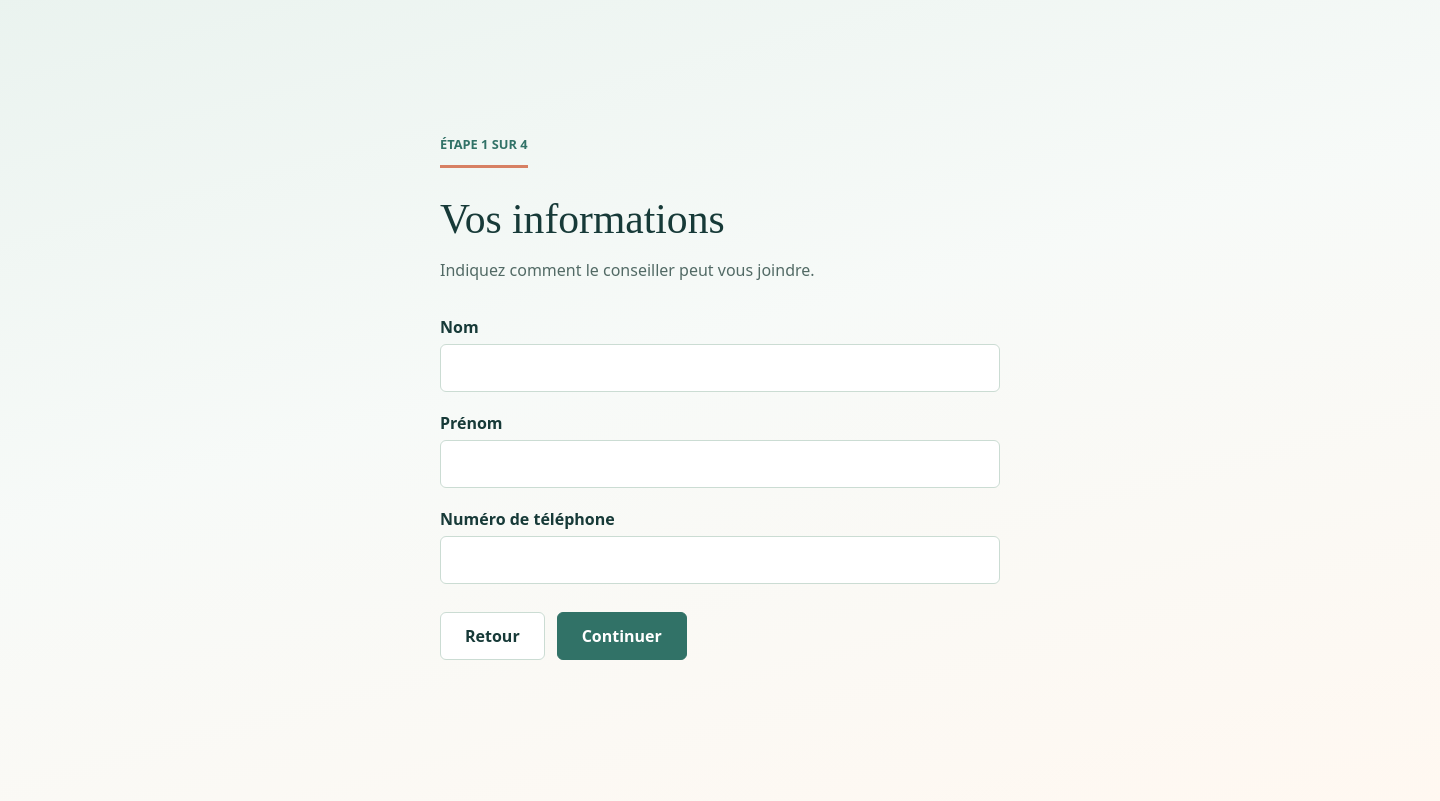
Test: Parcours client › exige un motif et un créneau avant de continuer
The image size is (1440, 801).
Type "Dupont" into the field labelled "Nom" at (720, 368), box [440,344,1000,392]
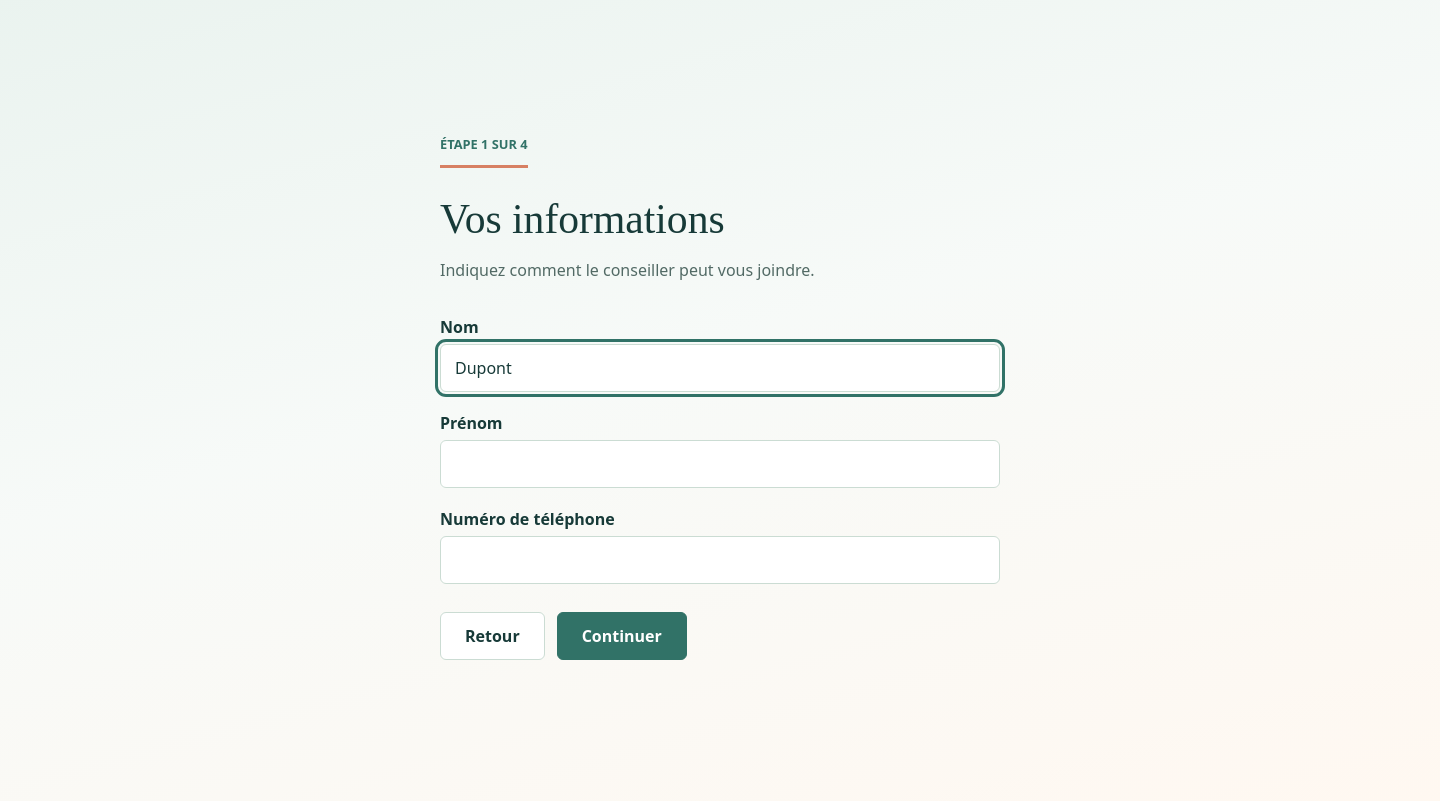
Type "Alice" into the field labelled "Prénom" at (720, 464), box [440,440,1000,488]
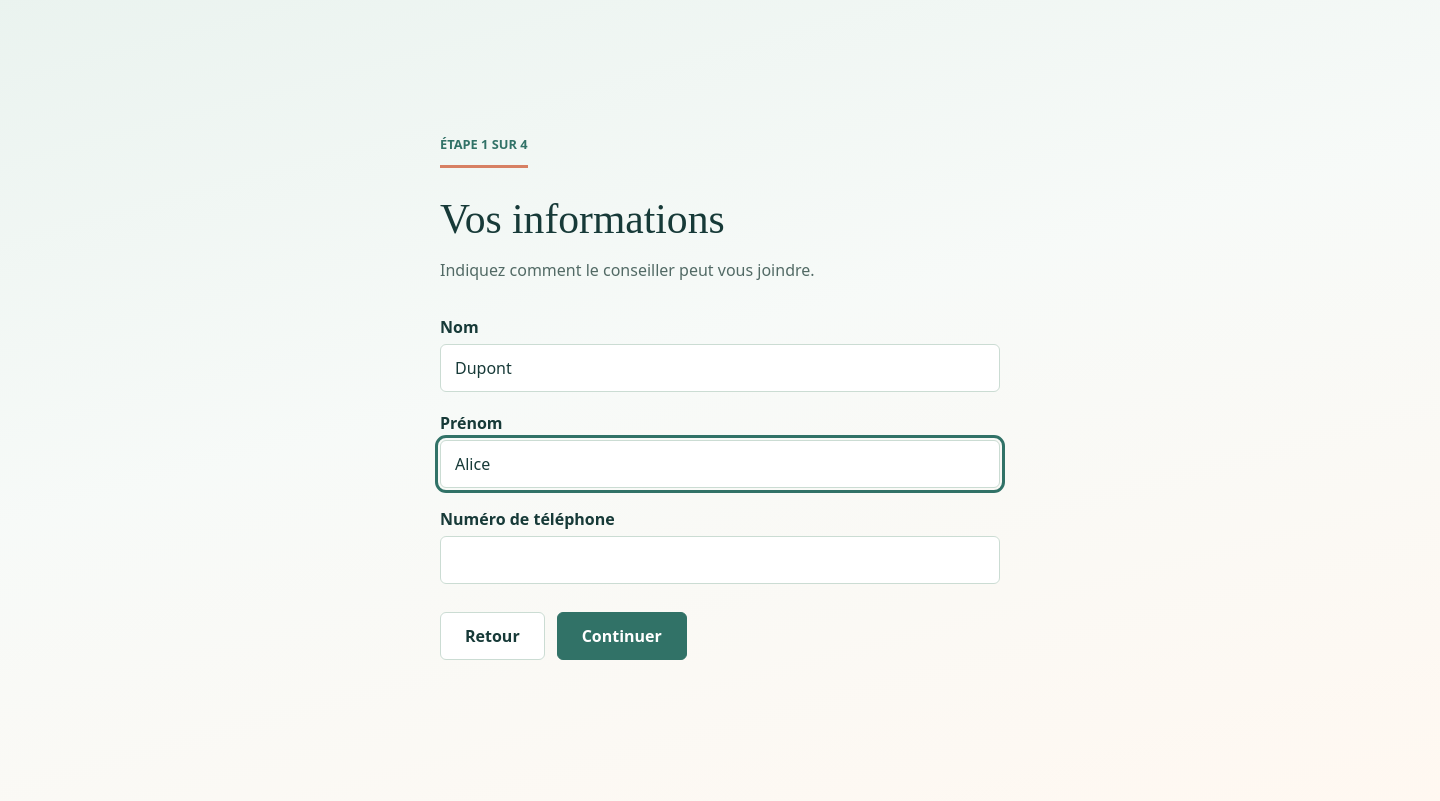
Type "06 12 34 56 78" into the field labelled "Numéro de téléphone" at (720, 560), box [440,536,1000,584]
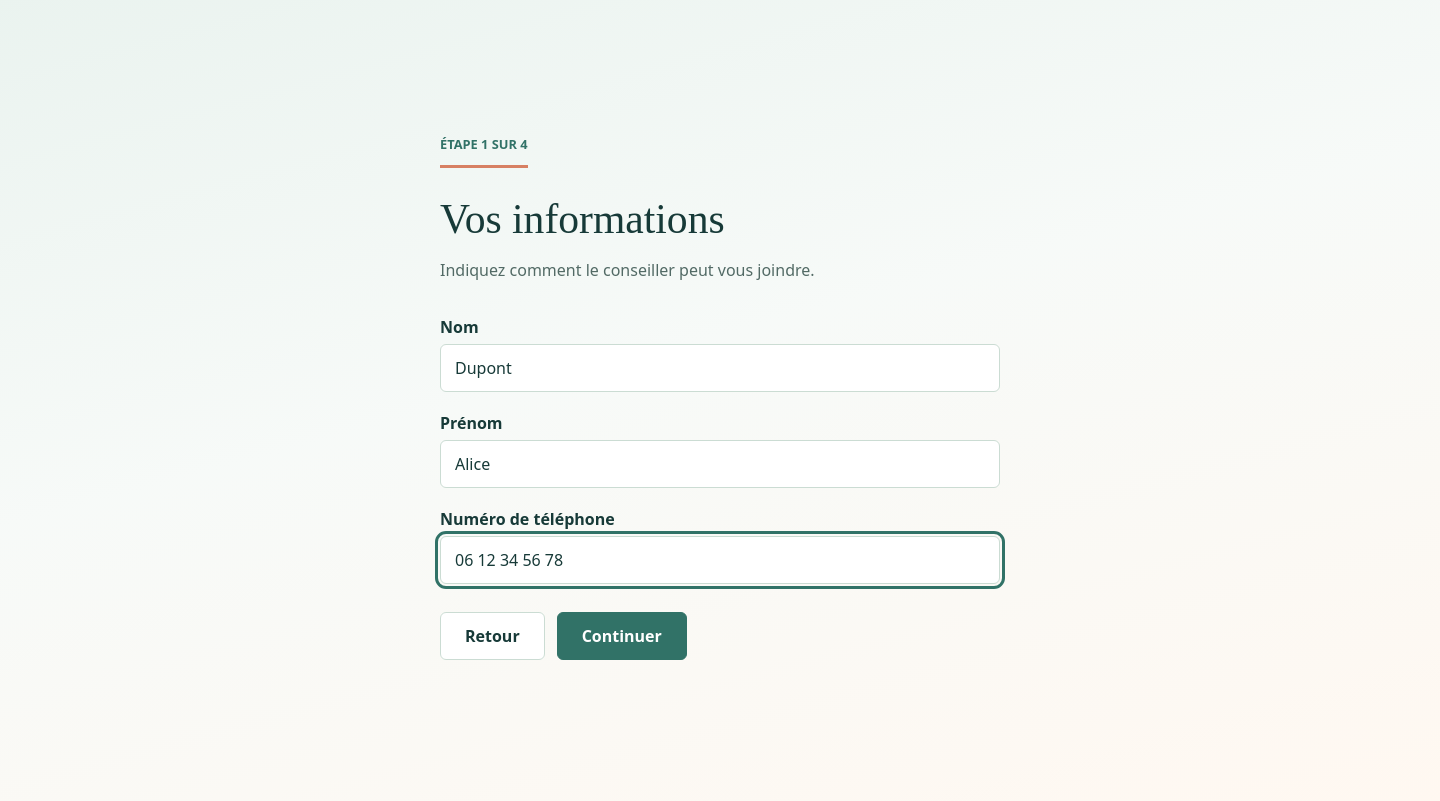
Click the button "Continuer" at (622, 636), box [557,612,687,660]
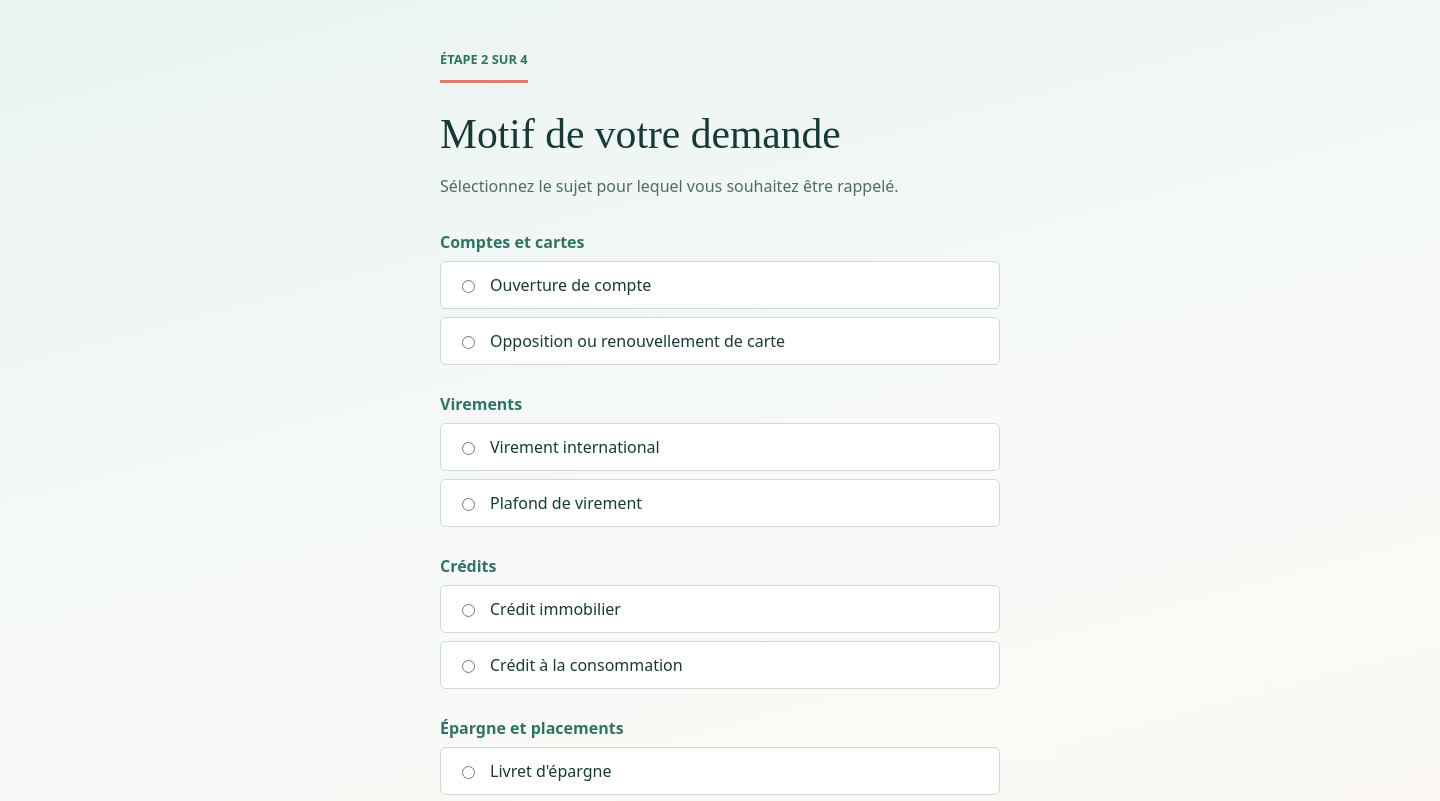
Now the heading "Motif de votre demande" is shown, box [440,111,841,157]
Click the radio button labelled "Virement international" at (468, 449), box [462,442,475,455]
(page scrolled)
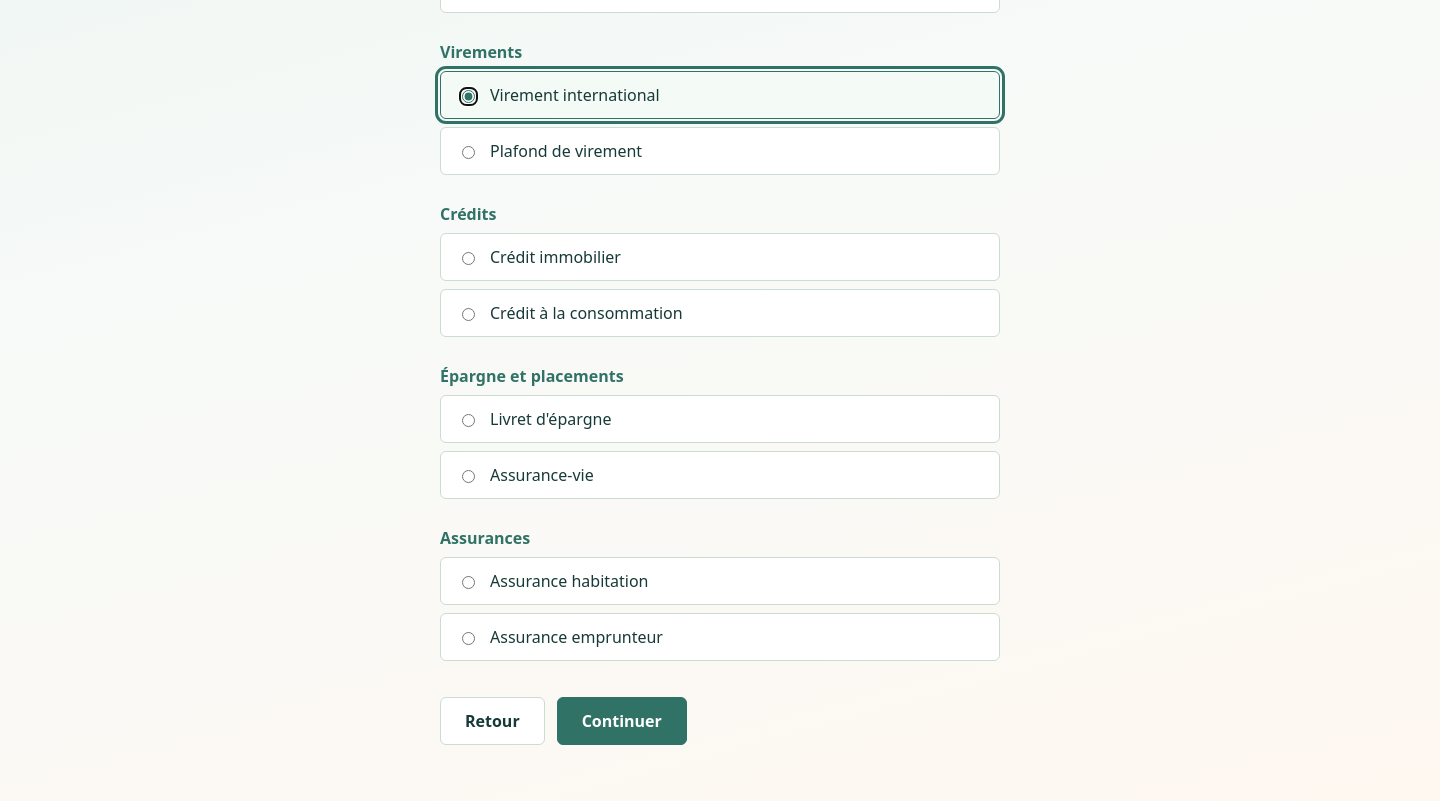
Click the button "Continuer" at (622, 721), box [557,697,687,745]
(page scrolled)
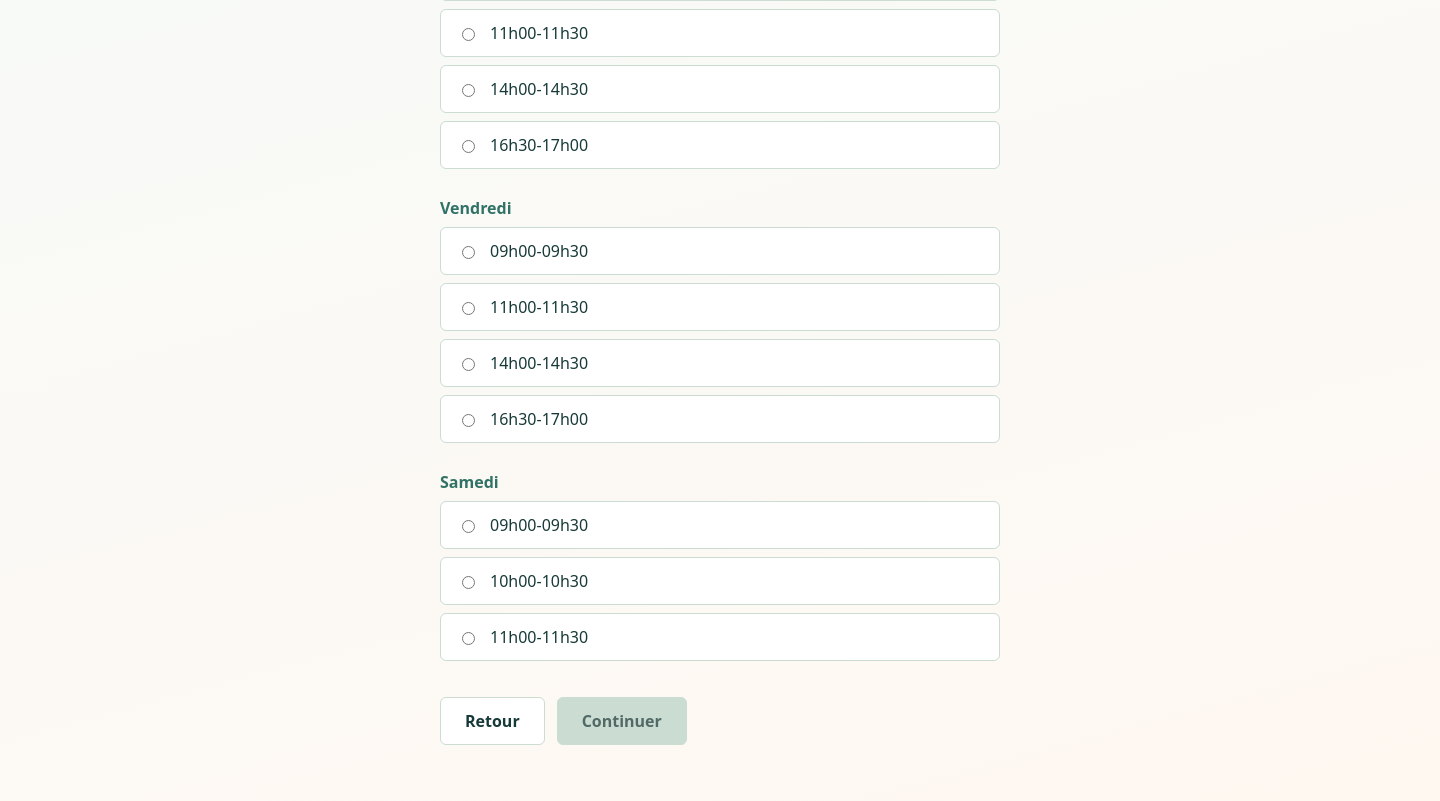
Now the button "Continuer" is disabled, box [557,697,687,745]
